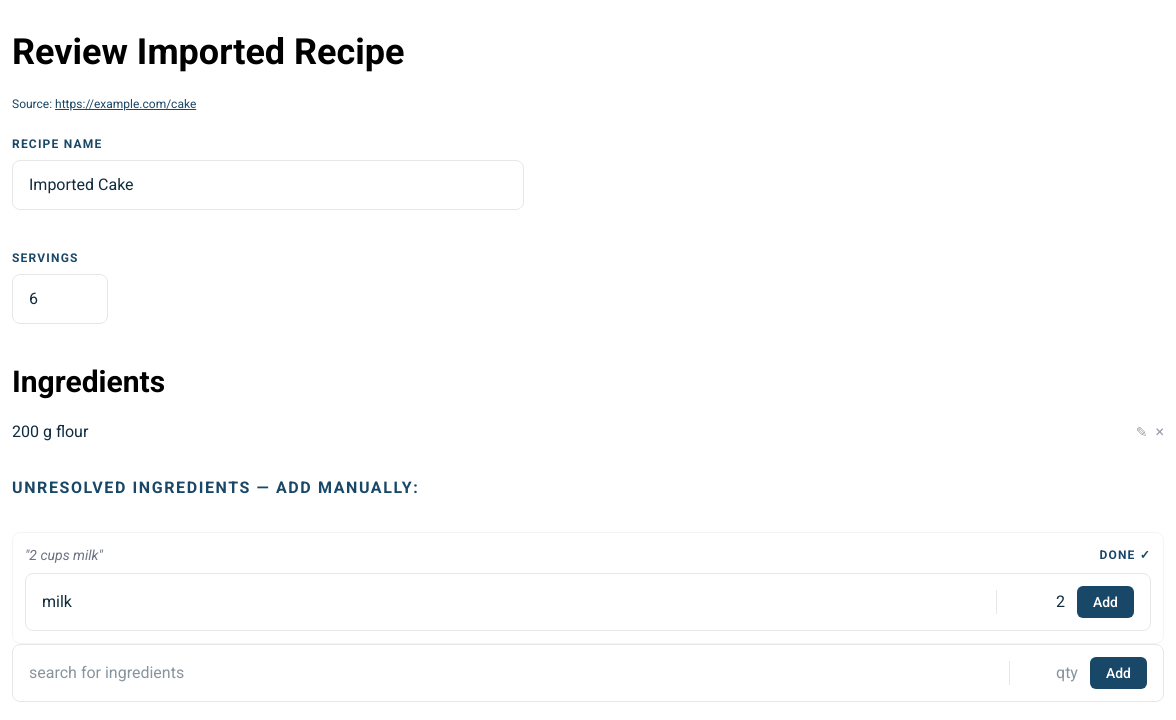
Test case: ImportPreviewForm › when all unresolved lines are dismissed the unresolved section disappears
Click the button with aria-label "done with 2 cups milk" at (1125, 555), box [1100, 547, 1151, 563]
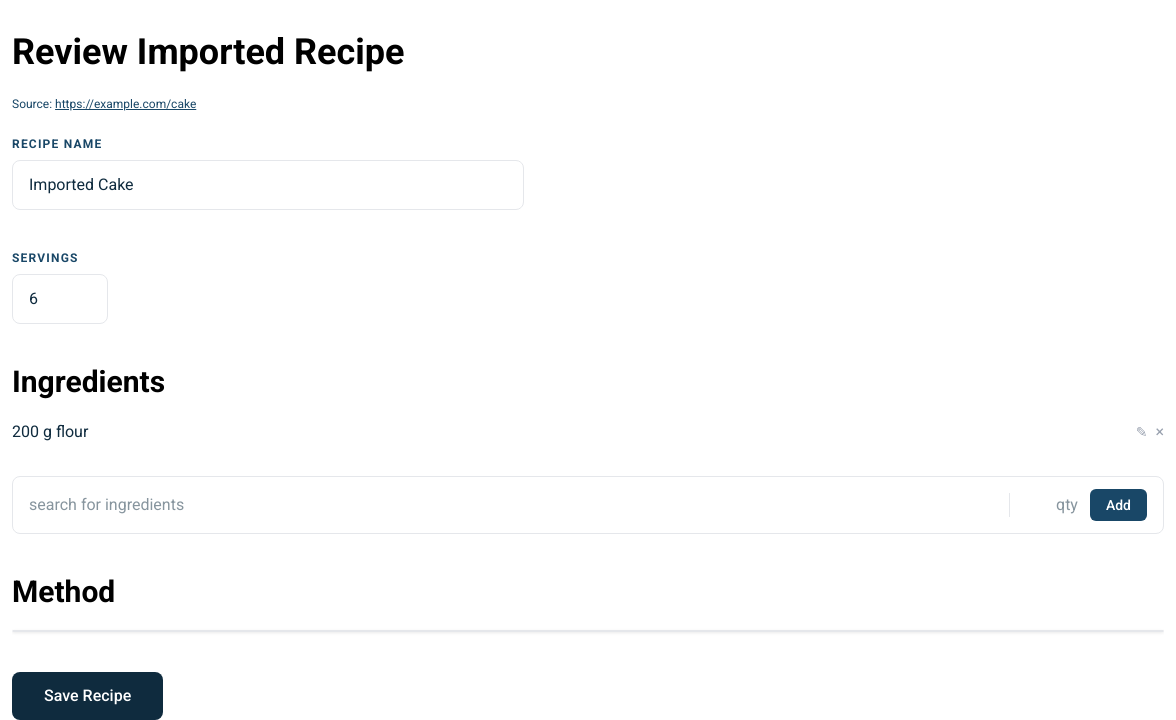
Check: the text "Unresolved ingredients" is gone
